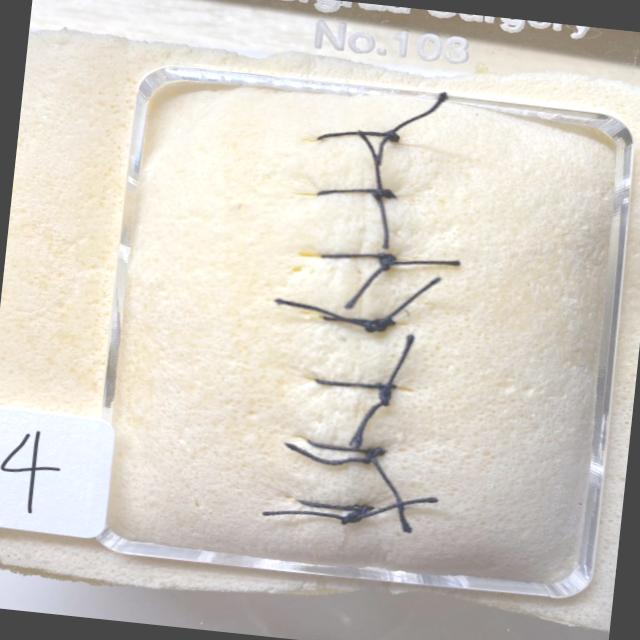knot: (343, 505, 369, 523), (364, 317, 392, 331), (376, 382, 390, 407), (378, 253, 396, 270), (365, 447, 381, 463), (384, 130, 400, 142), (376, 189, 396, 198)
leftover: (369, 450, 413, 535), (378, 274, 443, 324), (270, 297, 385, 325), (385, 89, 448, 138), (342, 255, 391, 310), (353, 386, 393, 448), (284, 441, 376, 464), (354, 127, 384, 194), (353, 496, 441, 518), (383, 331, 414, 391), (258, 506, 361, 521), (375, 189, 389, 251), (384, 255, 458, 266), (373, 133, 393, 168)
stitch: (302, 437, 386, 457), (294, 498, 373, 513), (310, 377, 394, 391), (314, 129, 403, 141), (322, 315, 398, 327), (313, 187, 395, 196), (317, 253, 398, 260)
wound: (336, 115, 372, 549)
